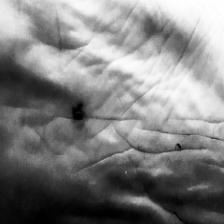Benign Marking or Mole: (70, 101, 90, 130)
